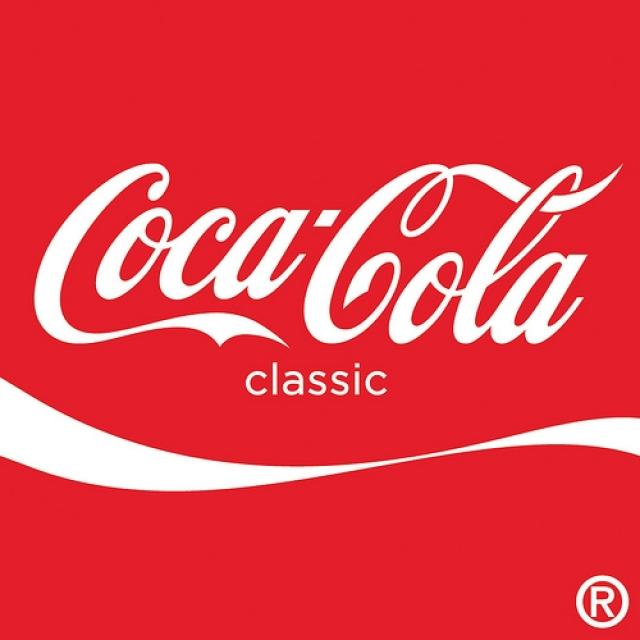cocacola: (18, 153, 633, 361)
